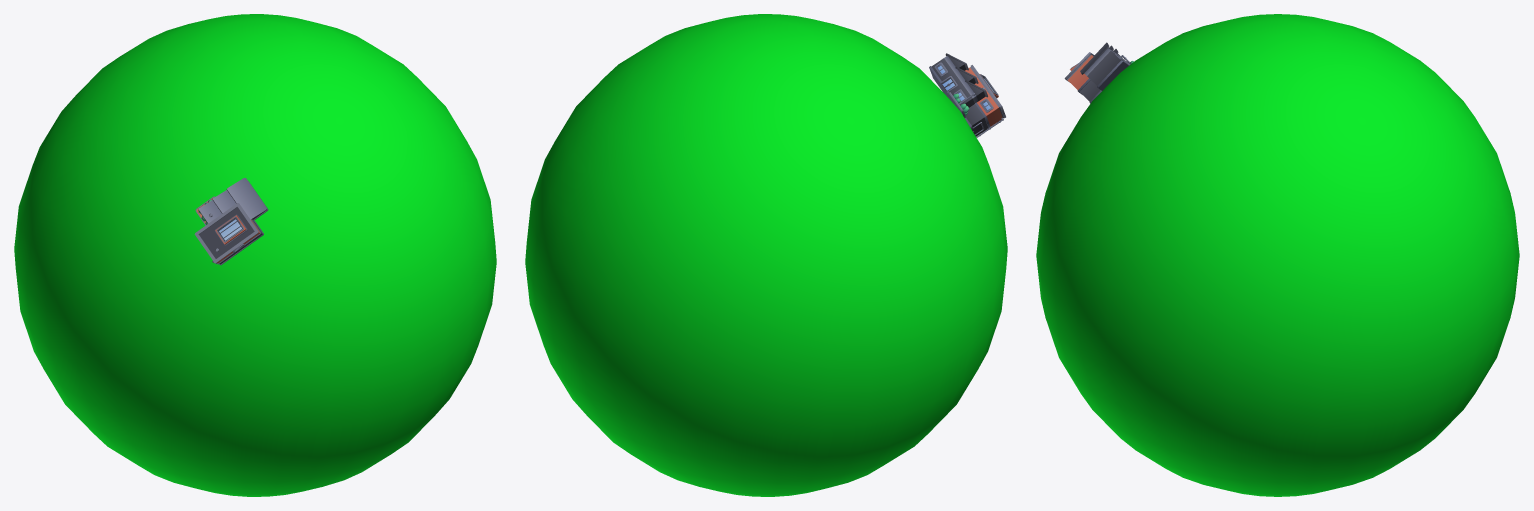
File: world2.glb
The picture shows the model from 3 angles, left to right: view 1: azimuth 30°, elevation 25°; view 2: azimuth 150°, elevation 25°; view 3: azimuth 270°, elevation 25°; orthographic projection.
Visible parts, largest first — view 1: Sphere, building-t; view 2: Sphere, building-t; view 3: Sphere, building-t.
Part boxes in pixels (x1,y1,x2,y2): Sphere: (14, 14, 496, 496); building-t: (194, 178, 268, 265); Sphere: (525, 14, 1007, 496); building-t: (929, 53, 1005, 137); Sphere: (1036, 14, 1519, 496); building-t: (1064, 42, 1133, 103).
Size of the model in its own units: 2 by 2 by 2.
2 materials, 1 textured.
